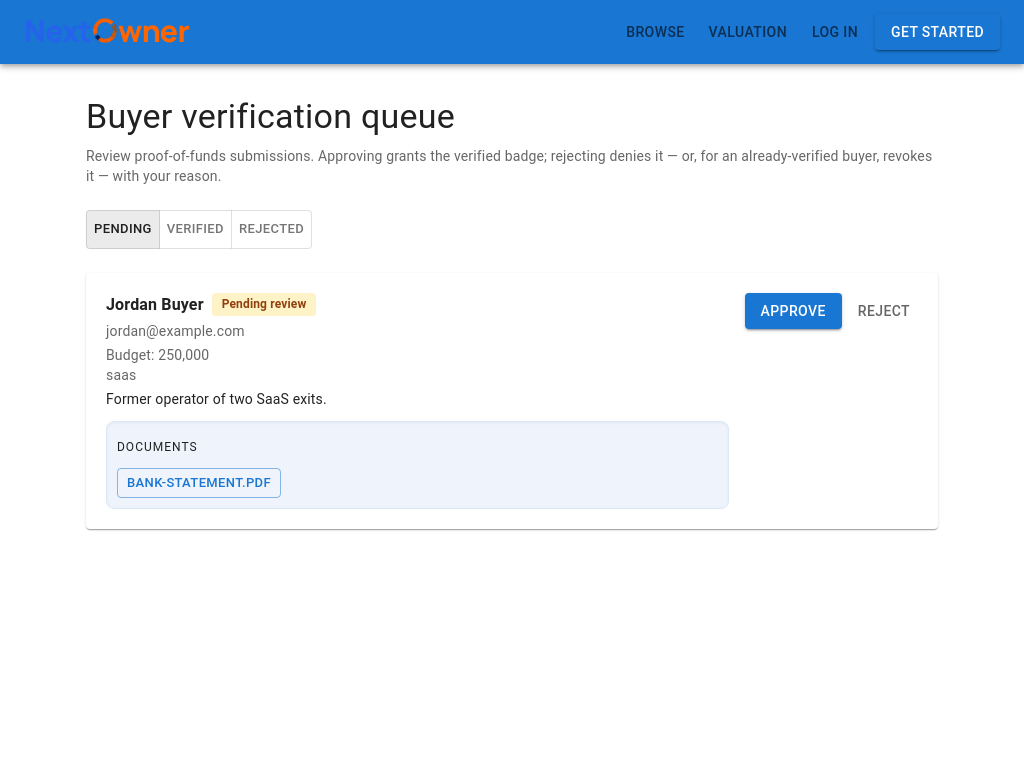
Test: AdminVerificationQueue › switching the filter to Verified shows a Revoke action instead of Approve
Expected: the text "Jordan Buyer" is shown, [106, 293, 204, 317]
Click the button "Verified" at (195, 229), box [159, 210, 232, 249]
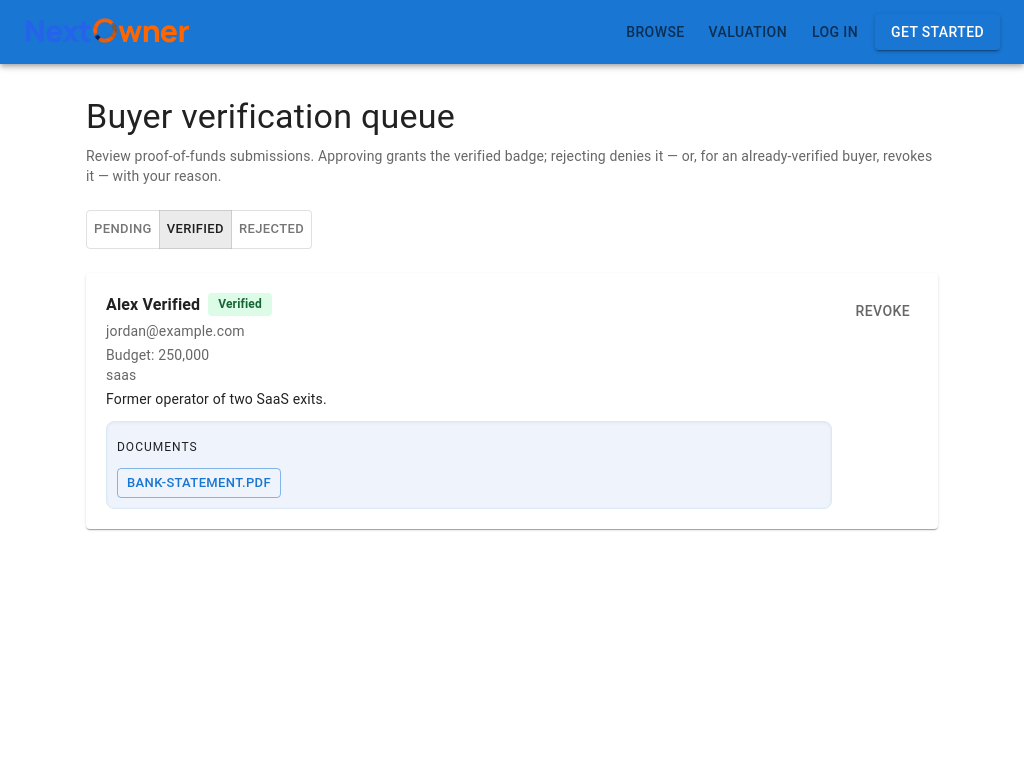
Now the text "Alex Verified" is shown, box [106, 293, 200, 317]
Now the button "Revoke" is shown, box [848, 293, 918, 329]
Now the button "Approve" is gone
